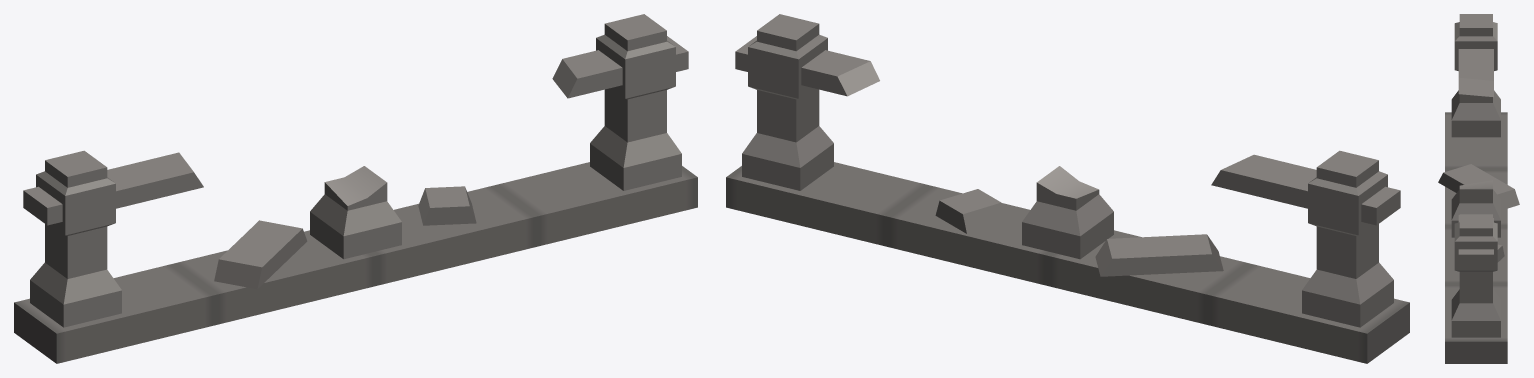
File: SD_Env_Railing_Stone_02.fbx
3 renders of one model, left to right at view 1: azimuth 30°, elevation 25°; view 2: azimuth 150°, elevation 25°; view 3: azimuth 270°, elevation 25°, orthographic. The views are drawn at different scales.
Parts seen in each view (by area): view 1: SD_Env_Railing_Stone_02; view 2: SD_Env_Railing_Stone_02; view 3: SD_Env_Railing_Stone_02.
Boxes of the visible parts, x1,y1,x2,y2 form: SD_Env_Railing_Stone_02: (14,14,697,363); SD_Env_Railing_Stone_02: (726,14,1409,363); SD_Env_Railing_Stone_02: (1438,14,1519,363).
Size of the model in its own units: 5 by 1.3 by 0.7539.
